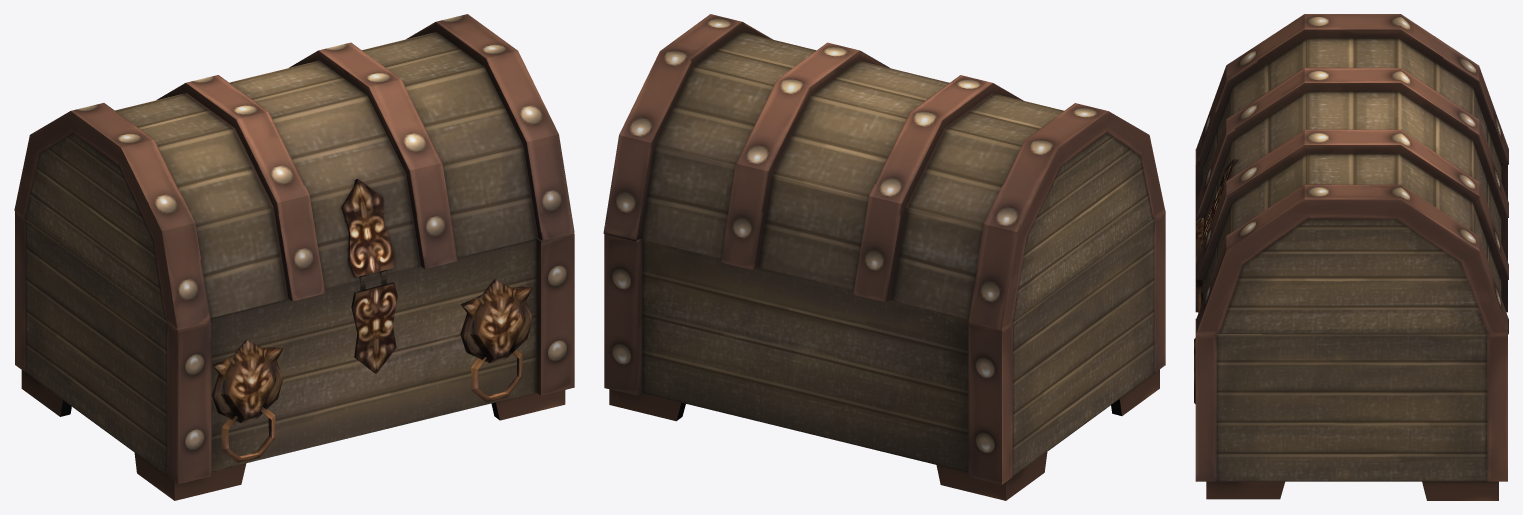
Rendered from CoffreMedieval.fbx.
3 views of the same model, side by side, from view 1: azimuth 30°, elevation 25°; view 2: azimuth 150°, elevation 25°; view 3: azimuth 270°, elevation 25° (orthographic). The views are drawn at different scales.
Parts seen in each view (by area): view 1: CoffreMedieval_Haut, CoffreMediaval_Bas; view 2: CoffreMedieval_Haut, CoffreMediaval_Bas; view 3: CoffreMedieval_Haut, CoffreMediaval_Bas.
Part boxes in pixels (left/top/right/bottom): CoffreMedieval_Haut: left=14, top=14, right=574, bottom=329; CoffreMediaval_Bas: left=15, top=211, right=574, bottom=500; CoffreMedieval_Haut: left=603, top=14, right=1165, bottom=330; CoffreMediaval_Bas: left=604, top=210, right=1165, bottom=500; CoffreMedieval_Haut: left=1196, top=14, right=1508, bottom=334; CoffreMediaval_Bas: left=1194, top=149, right=1507, bottom=500.
Size of the model in its own units: 30.51 by 23.15 by 21.88.
